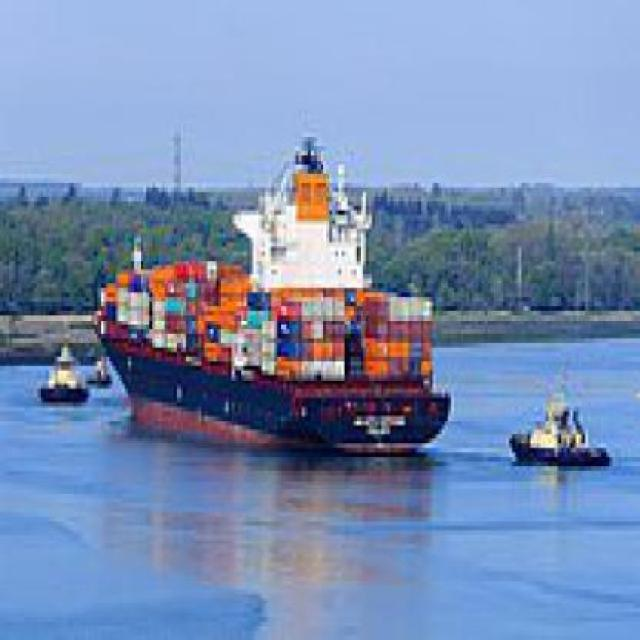container: (90, 124, 453, 467)
